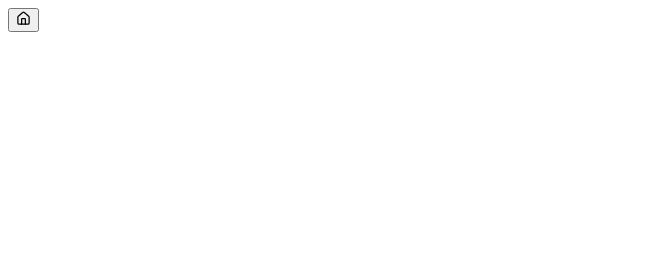
DesktopMenuBar › routes the localized menu to the existing app commands
Step 1. Click the button named "Inicio y menú de la aplicación" → (24, 20), box [8,8,39,32]
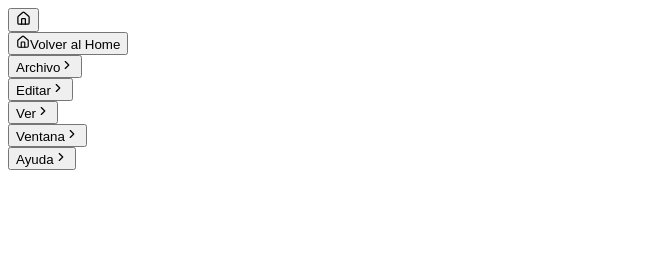
Step 2. Click the menu item "Archivo" → (45, 66), box [8,55,82,78]
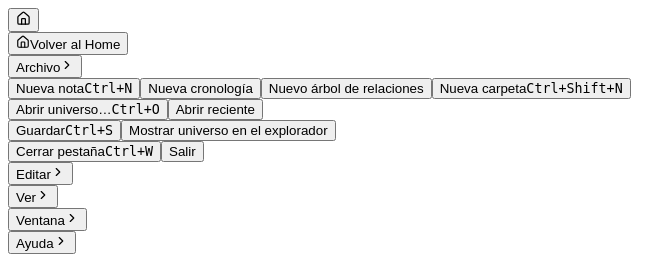
Step 3. Click the menu item "Guardar" → (65, 130), box [8,120,121,141]
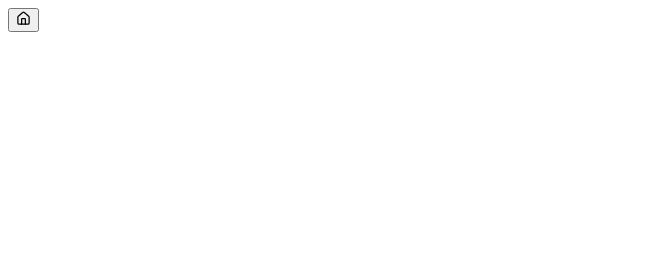
Now the menu is gone
